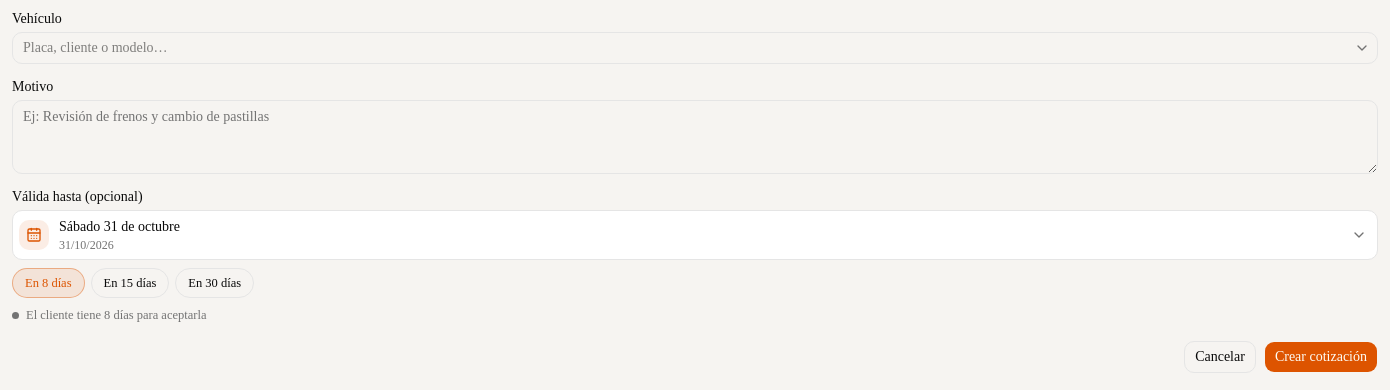
Test case: NuevaCotizacionForm › filters the vehículo options by cliente, placa, or modelo as you type
Type "Duster" into the dropdown.
click(695, 48); type("Duster")  # box [12,32,1378,64]
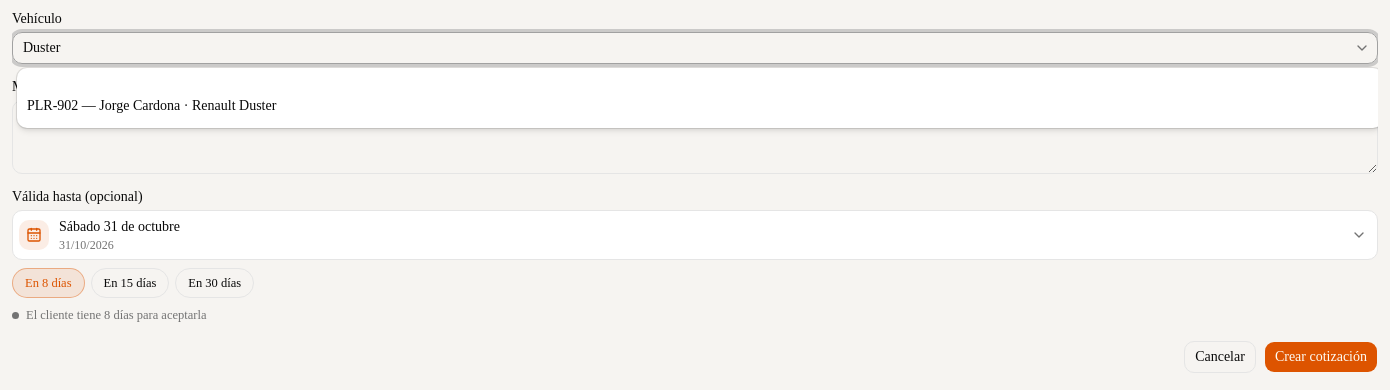
Now the option "PLR-902 — Jorge Cardona · Renault Duster" is shown, box [27,98,276,113]
